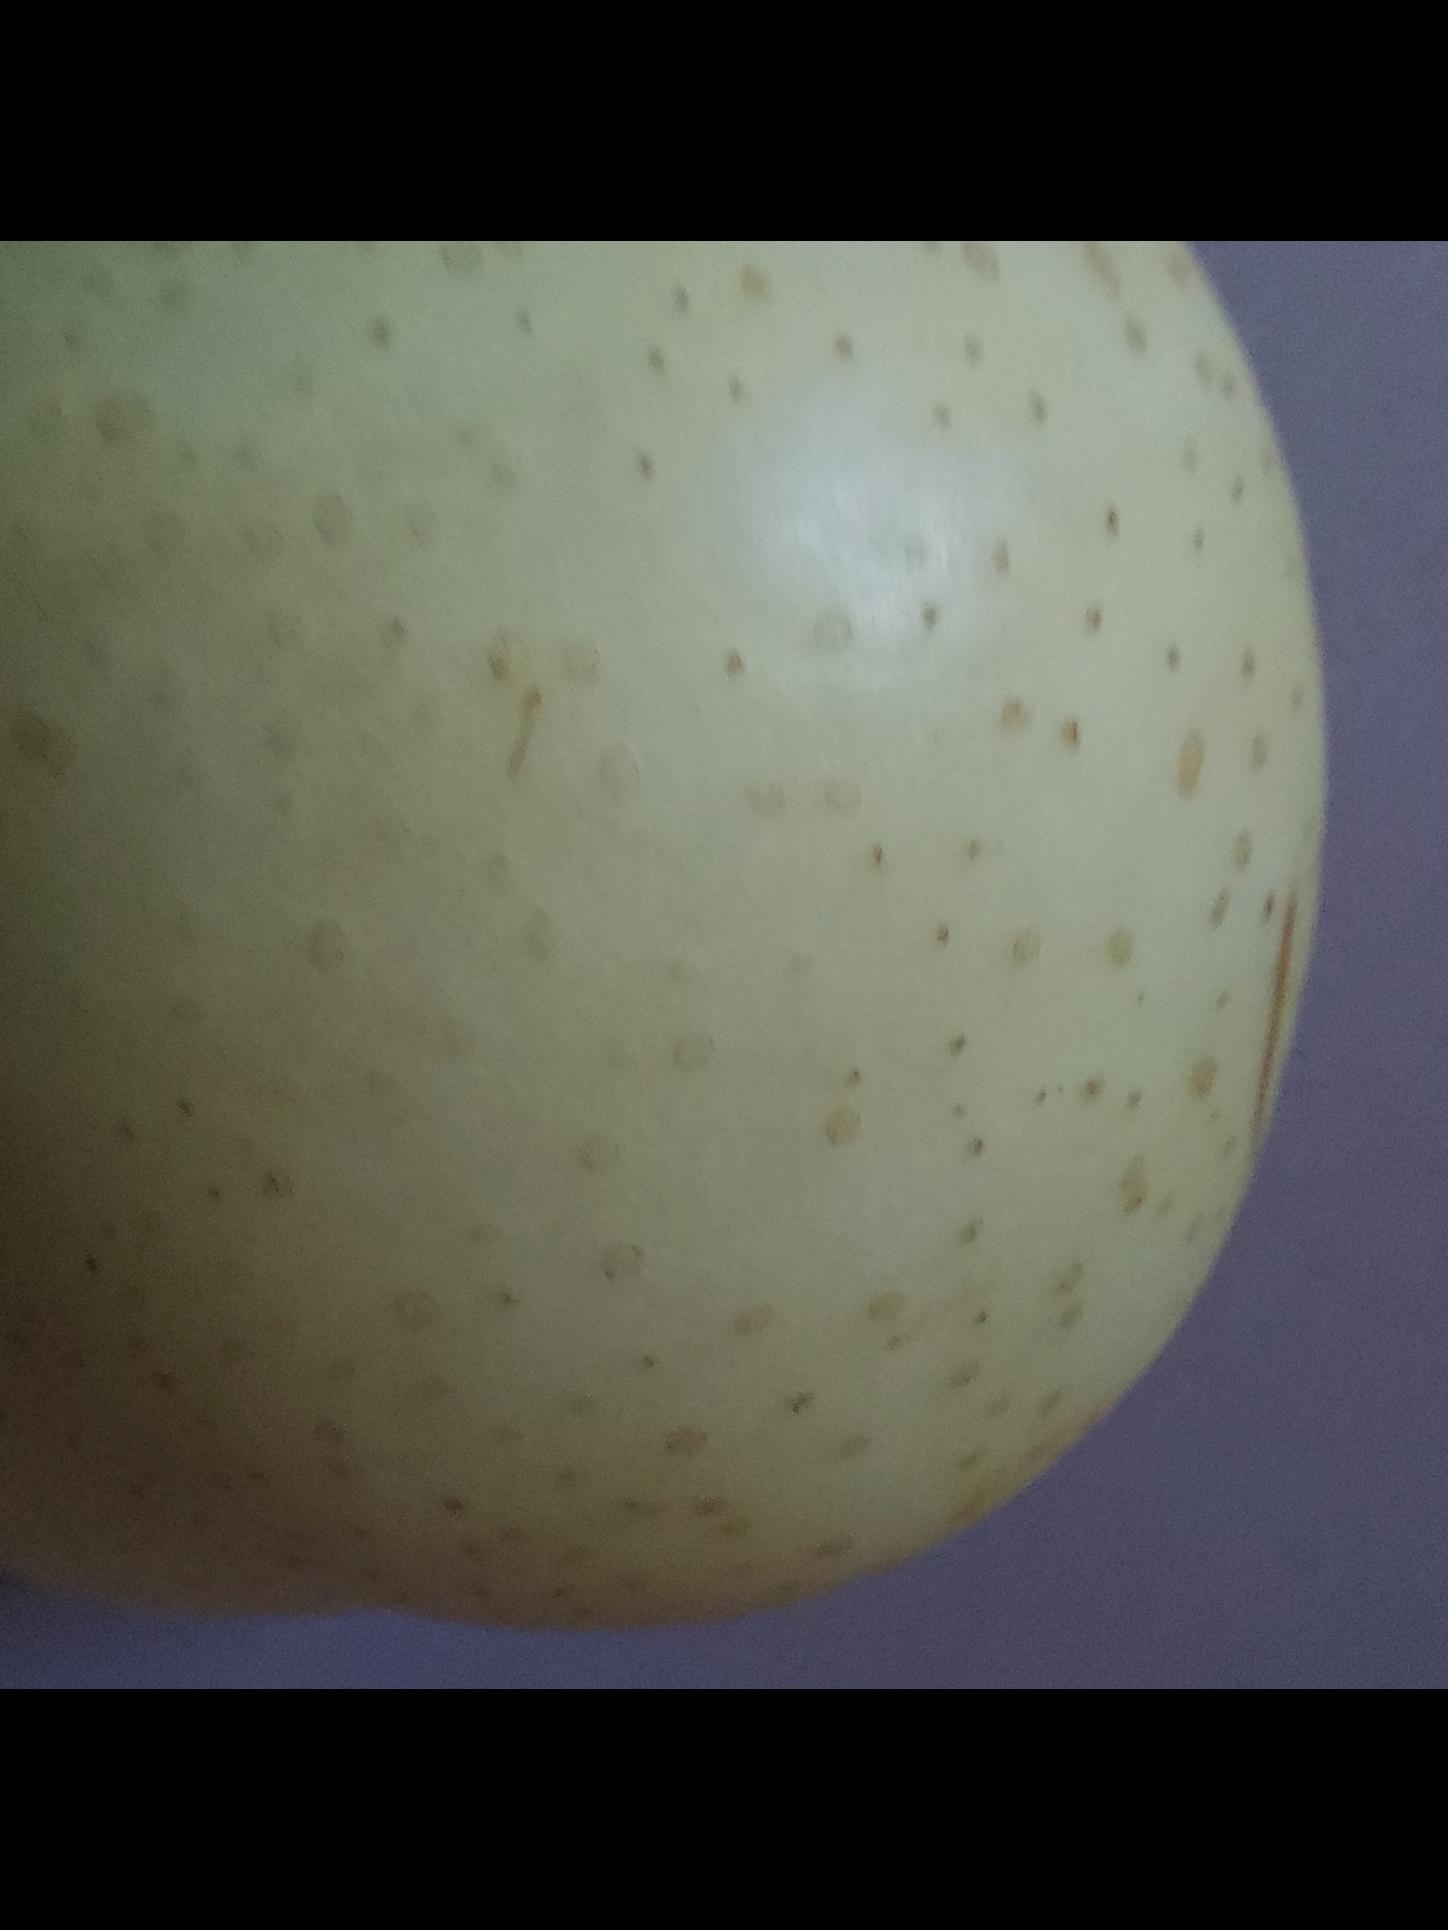Good Pear: (0, 240, 1370, 1676)
